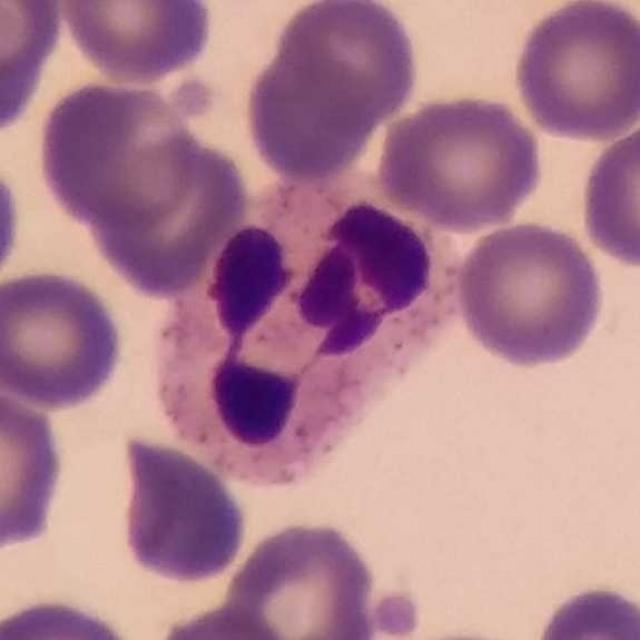Neutrophil: (143, 168, 471, 492)
Platelets: (366, 588, 423, 639)
RBC: (82, 126, 253, 296), (34, 76, 200, 235), (373, 89, 546, 233), (452, 217, 608, 371), (111, 430, 252, 588), (218, 516, 383, 640), (271, 0, 424, 129), (240, 44, 380, 182), (0, 265, 129, 412), (509, 0, 639, 144), (55, 0, 218, 87), (0, 380, 70, 556), (576, 116, 640, 271), (0, 0, 69, 141), (1, 591, 151, 640), (528, 581, 640, 640), (147, 602, 300, 640), (0, 153, 26, 297)
